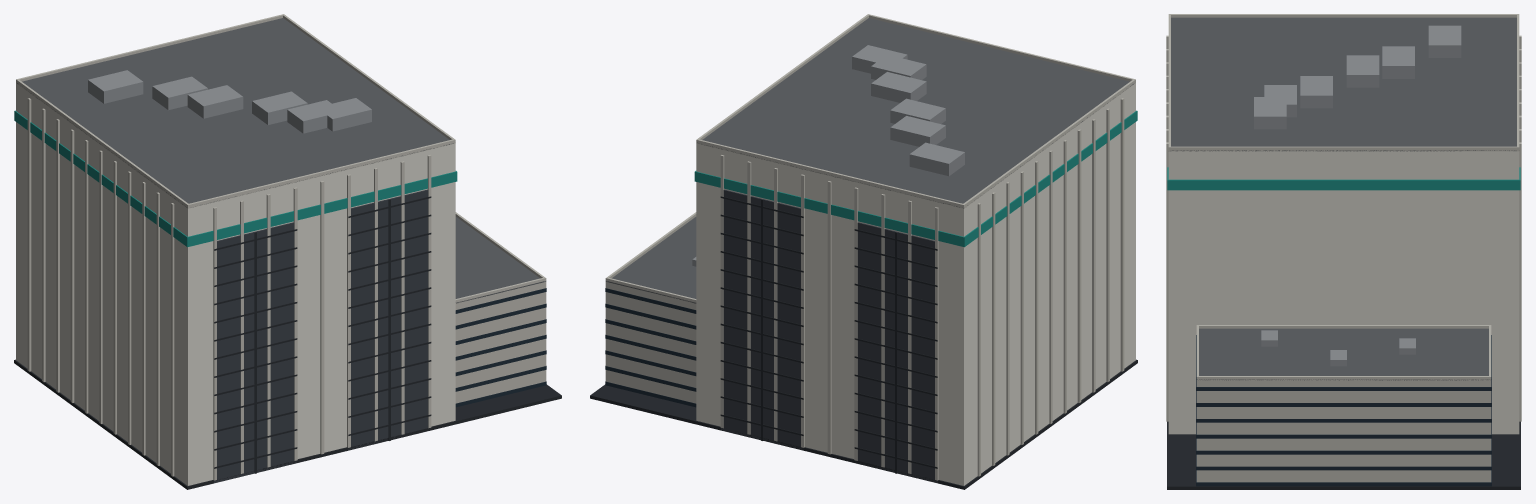
Rendered from vehicle_assembly_3.glb.
3 renders of one model, left to right at view 1: azimuth 30°, elevation 25°; view 2: azimuth 150°, elevation 25°; view 3: azimuth 270°, elevation 25°, orthographic. The views are drawn at different scales.
Visible parts, largest first — view 1: Assembly.002; view 2: Assembly.002; view 3: Assembly.002.
Boxes of the visible parts, <box> form: Assembly.002: <box>14,14,561,489</box>; Assembly.002: <box>590,14,1137,489</box>; Assembly.002: <box>1166,14,1521,489</box>.
Bounding box in the file's own units: 151 × 113 × 122.
